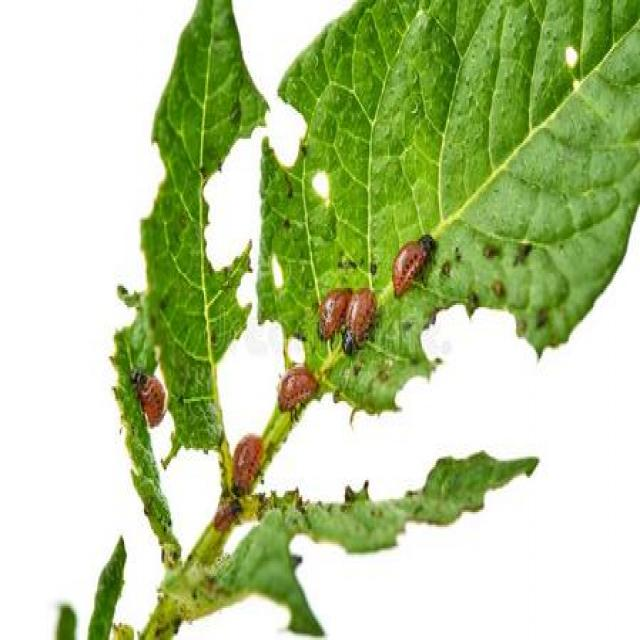ShuCaiHuaBanChong-Larva-: (222, 431, 276, 504), (131, 356, 178, 438), (388, 231, 431, 300), (271, 362, 321, 418)
